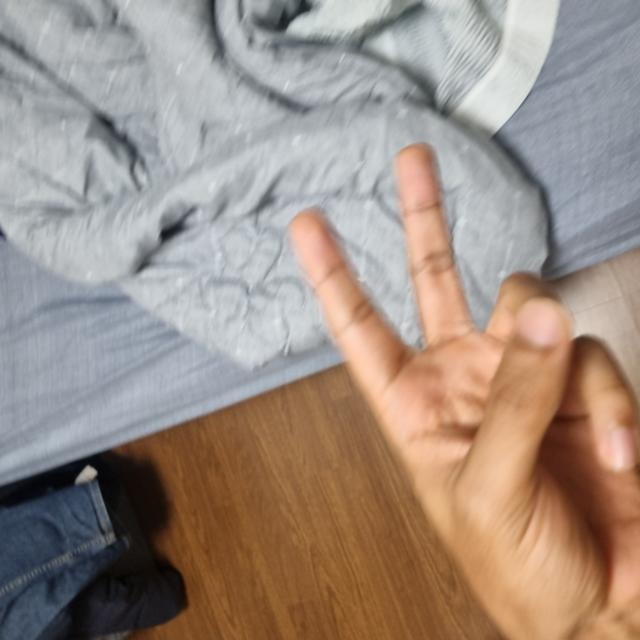Scissors: (0, 289, 490, 639)
